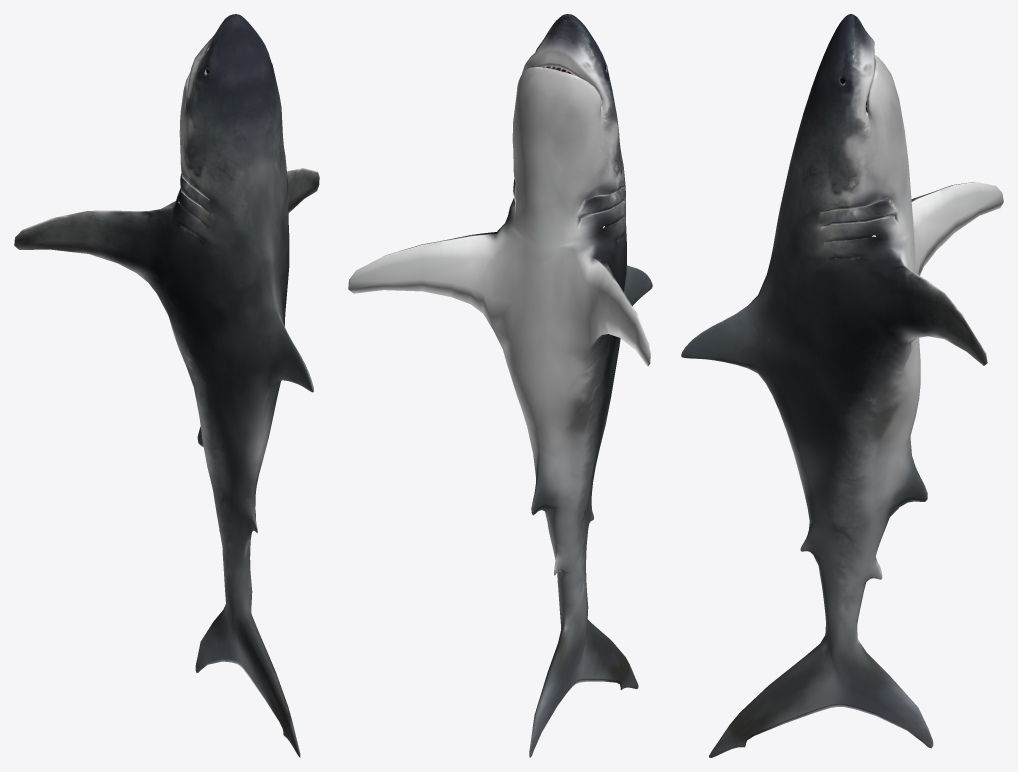
File: shark.obj
3 views of the same model, side by side, from view 1: azimuth 30°, elevation 25°; view 2: azimuth 150°, elevation 25°; view 3: azimuth 270°, elevation 25° (orthographic). The views are drawn at different scales.
Parts seen in each view (by area): view 1: polygons01_pivot; view 2: polygons01_pivot; view 3: polygons01_pivot.
Part boxes in pixels (left/top/right/bottom): polygons01_pivot: left=14, top=14, right=319, bottom=757; polygons01_pivot: left=348, top=14, right=652, bottom=757; polygons01_pivot: left=681, top=14, right=1003, bottom=757.
Bounding box in the file's own units: 4.32 × 9.64 × 3.8.
1 material, 1 textured.
